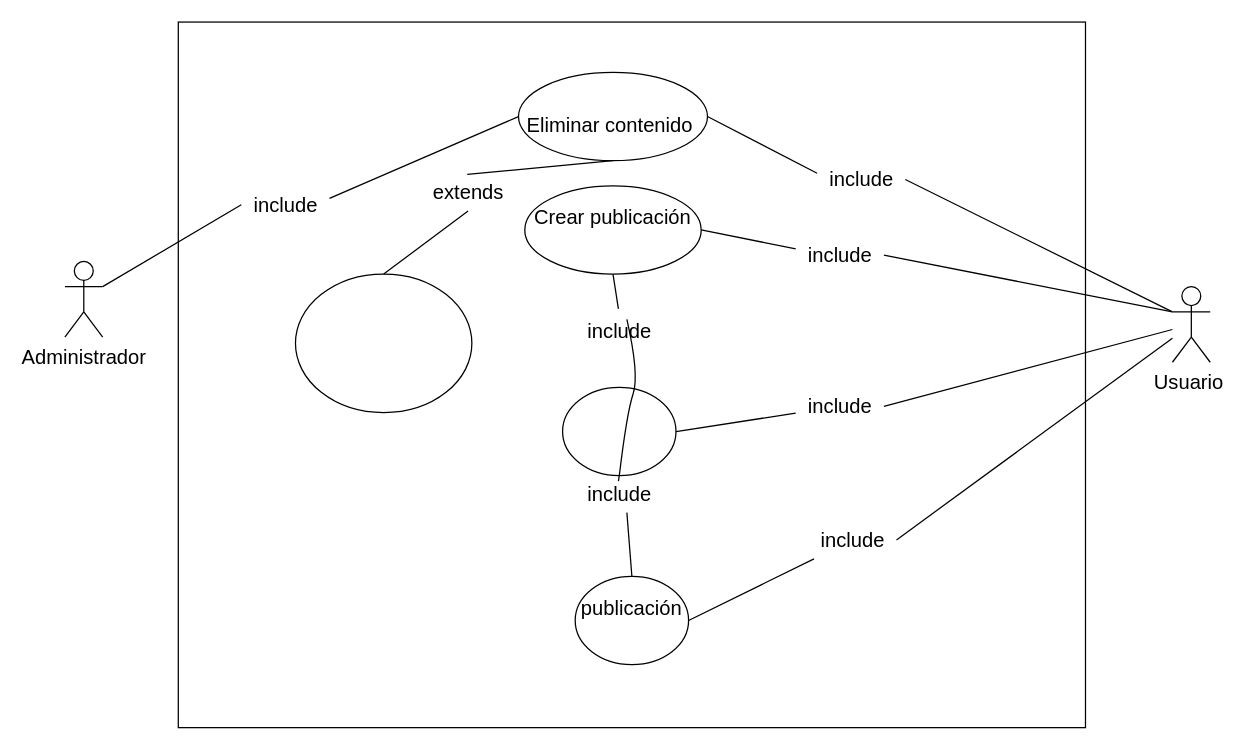
The diagram is 1251 pixels wide and 750 high, and some of its shapes have lost their labels. The centre of each missing label's shape, as x and y in pixels:
"Iniciar sesión" belongs at point 618,431.
"Reportar contenido" belongs at point 383,343.
